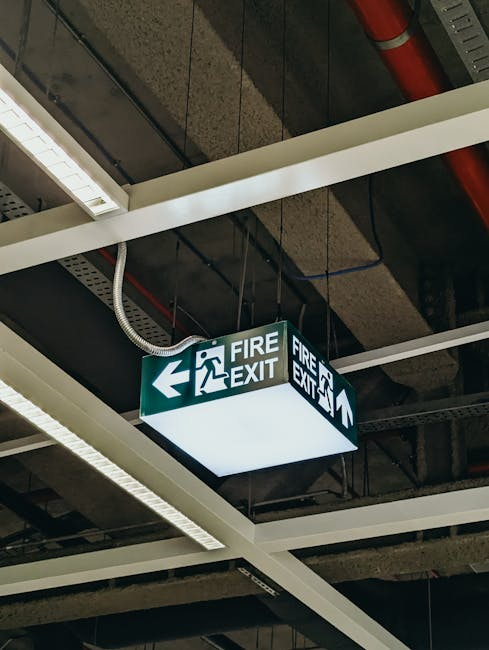emergency_exit: (137, 319, 360, 479)
